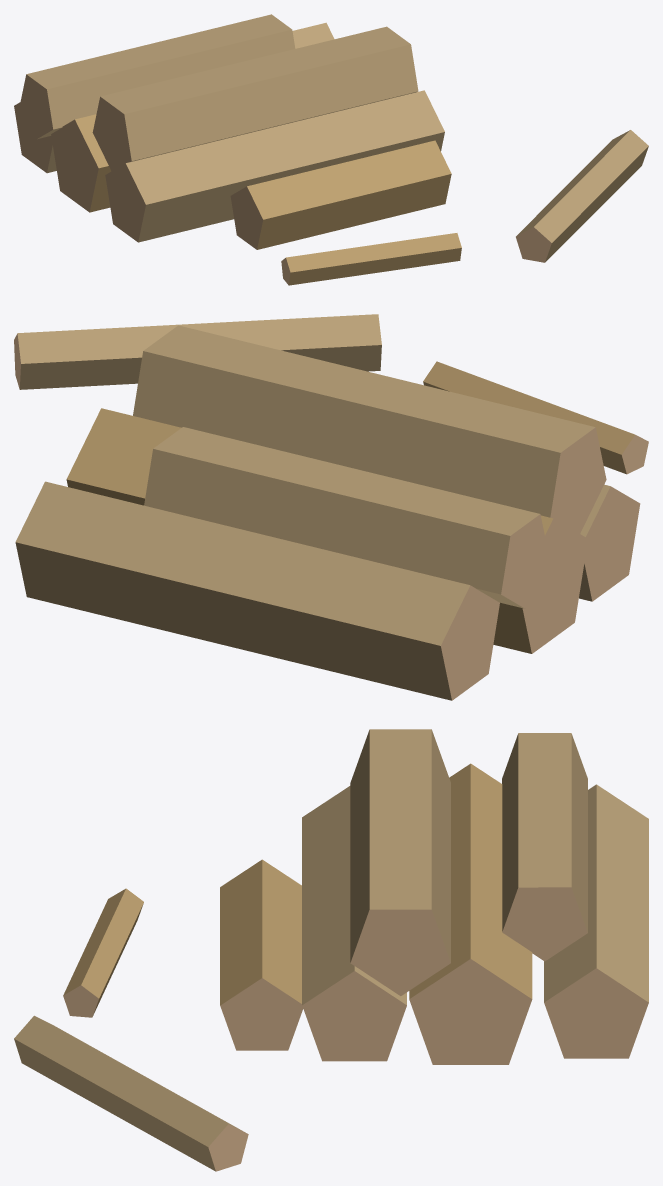
The model's file is Acacia_Firewood_Pile_02_LOD.fbx.
3 views of the same model, one above another, from view 1: azimuth 30°, elevation 25°; view 2: azimuth 150°, elevation 25°; view 3: azimuth 270°, elevation 25° (orthographic). The views are drawn at different scales.
Parts seen in each view (by area): view 1: Acacia_Firewood_Pile_02_LOD0; view 2: Acacia_Firewood_Pile_02_LOD0; view 3: Acacia_Firewood_Pile_02_LOD0.
Part boxes in pixels (bbox=[...]): Acacia_Firewood_Pile_02_LOD0: bbox=[14, 14, 648, 285]; Acacia_Firewood_Pile_02_LOD0: bbox=[14, 314, 648, 700]; Acacia_Firewood_Pile_02_LOD0: bbox=[14, 729, 648, 1171].
Size of what is drawn, in the model's own units: 90.22 by 21.4 by 79.88.
